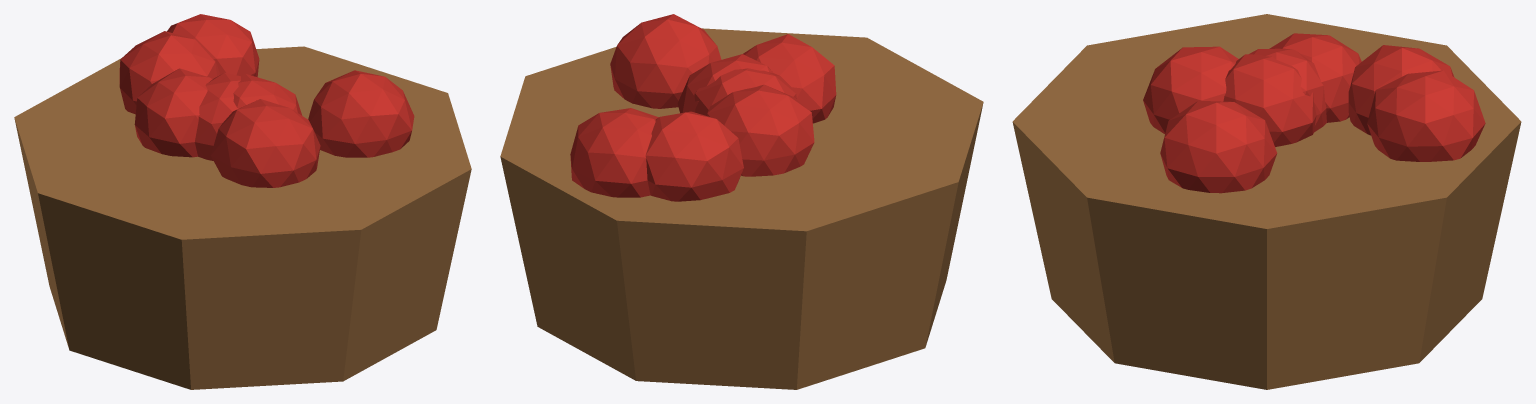
Rendered from food_apple_basket.glb.
3 renders of one model, left to right at view 1: azimuth 30°, elevation 25°; view 2: azimuth 150°, elevation 25°; view 3: azimuth 270°, elevation 25°, orthographic. The views are drawn at different scales.
Parts seen in each view (by area): view 1: food_apple_basket; view 2: food_apple_basket; view 3: food_apple_basket.
Part boxes in pixels (box(x1,y1,x2,y2)): food_apple_basket: box(14, 14, 471, 389); food_apple_basket: box(500, 14, 983, 389); food_apple_basket: box(1012, 14, 1521, 389).
Bounding box in the file's own units: 0.52 × 0.2776 × 0.52.
